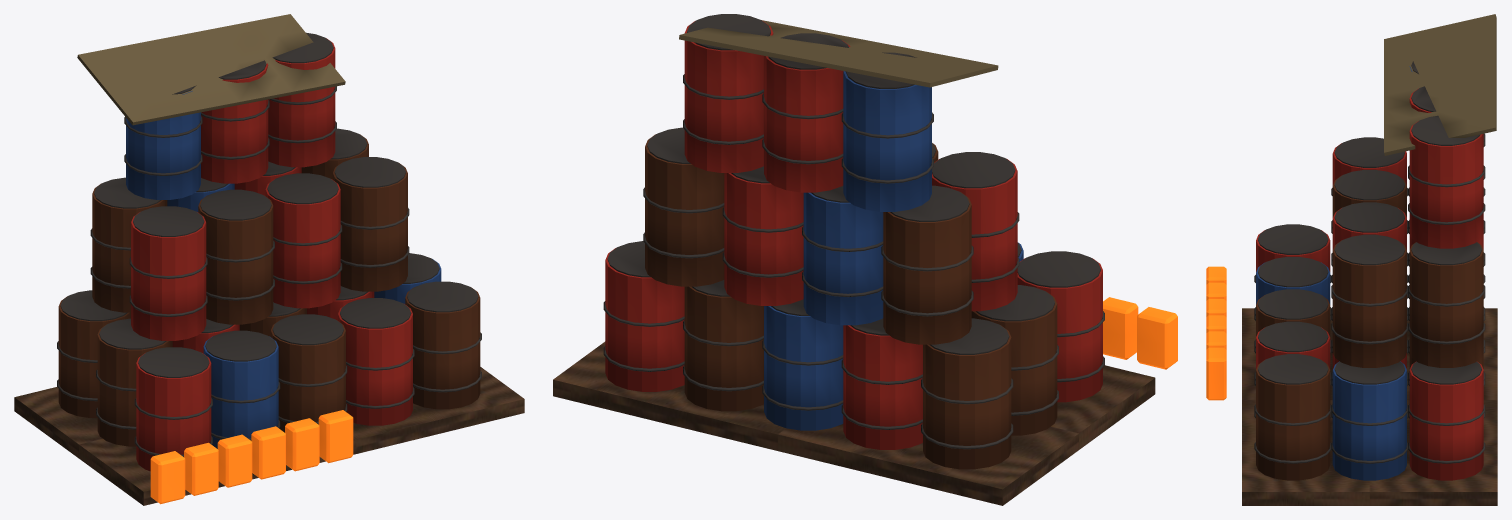
File: az-barrels.glb
3 views of the same model, side by side, from view 1: azimuth 30°, elevation 25°; view 2: azimuth 150°, elevation 25°; view 3: azimuth 270°, elevation 25° (orthographic). The views are drawn at different scales.
Visible parts, largest first — view 1: az-barrels_az_enamel_red, az-barrels_az_rust, az-barrels_az_iron, az-barrels_az_canvas, az-barrels_az_bluetank, az-barrels_az_wood, az-barrels_az_orange; view 2: az-barrels_az_enamel_red, az-barrels_az_rust, az-barrels_az_bluetank, az-barrels_az_iron, az-barrels_az_wood, az-barrels_az_canvas, az-barrels_az_orange; view 3: az-barrels_az_iron, az-barrels_az_rust, az-barrels_az_enamel_red, az-barrels_az_wood, az-barrels_az_canvas, az-barrels_az_bluetank, az-barrels_az_orange.
Boxes of the visible parts, box(x1,y1,x2,y2) form: az-barrels_az_enamel_red: box(131, 38, 412, 471); az-barrels_az_rust: box(58, 134, 480, 446); az-barrels_az_iron: box(57, 32, 481, 456); az-barrels_az_canvas: box(77, 14, 345, 125); az-barrels_az_bluetank: box(126, 91, 441, 448); az-barrels_az_wood: box(14, 367, 524, 505); az-barrels_az_orange: box(150, 410, 353, 504); az-barrels_az_enamel_red: box(605, 20, 1102, 449); az-barrels_az_rust: box(645, 134, 1057, 469); az-barrels_az_bluetank: box(764, 71, 1023, 430); az-barrels_az_iron: box(603, 14, 1104, 449); az-barrels_az_wood: box(553, 341, 1155, 505); az-barrels_az_canvas: box(679, 20, 998, 87); az-barrels_az_orange: box(1103, 297, 1177, 369); az-barrels_az_iron: box(1254, 61, 1485, 463); az-barrels_az_rust: box(1256, 175, 1483, 480); az-barrels_az_enamel_red: box(1256, 88, 1483, 480); az-barrels_az_wood: box(1242, 308, 1497, 505); az-barrels_az_canvas: box(1384, 14, 1496, 155); az-barrels_az_bluetank: box(1256, 66, 1412, 480); az-barrels_az_orange: box(1206, 266, 1226, 400).
Bounding box in the file's own units: 3.42 × 2.92 × 2.28.
7 materials, 1 textured.
